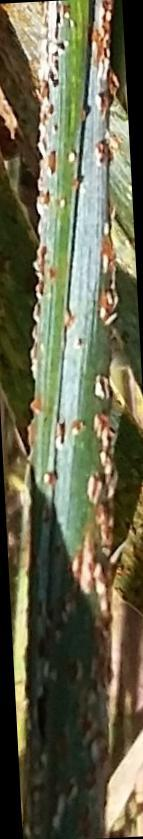Wheat: (20, 3, 122, 602)
